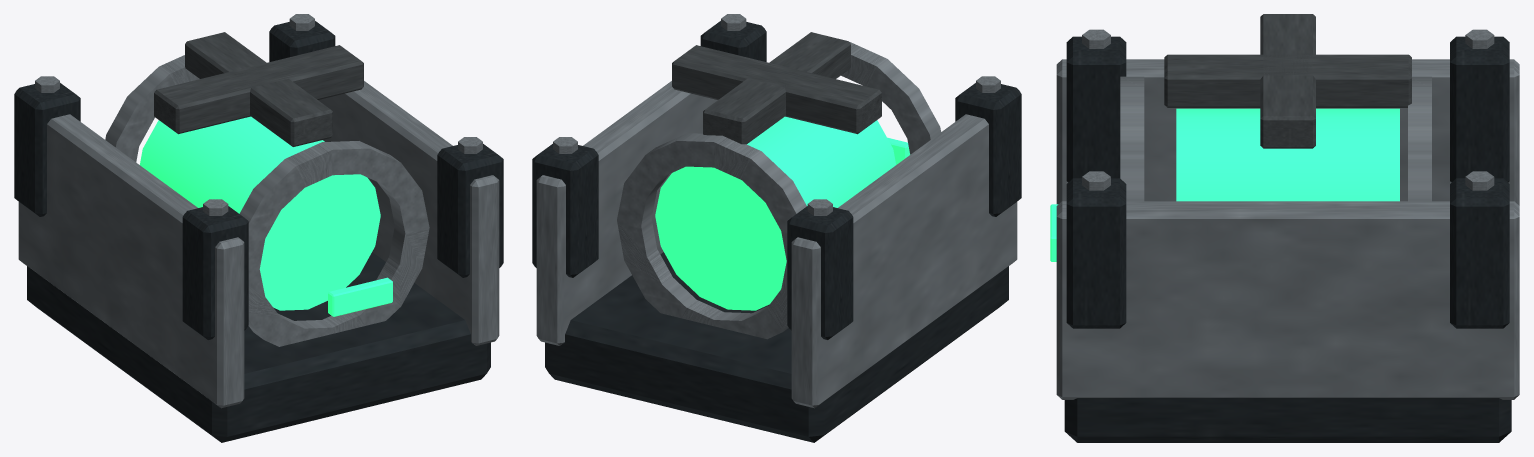
The model's file is shield.glb.
3 renders of one model, left to right at view 1: azimuth 30°, elevation 25°; view 2: azimuth 150°, elevation 25°; view 3: azimuth 270°, elevation 25°, orthographic. The views are drawn at different scales.
Visible parts, largest first — view 1: shield_mesh; view 2: shield_mesh; view 3: shield_mesh.
Boxes of the visible parts, x1,y1,x2,y2 form: shield_mesh: (14, 14, 503, 442); shield_mesh: (532, 14, 1021, 442); shield_mesh: (1050, 14, 1519, 442).
Size of the model in its own units: 0.495 by 0.4225 by 0.588.
Materials: 2 (1 with a texture image).
